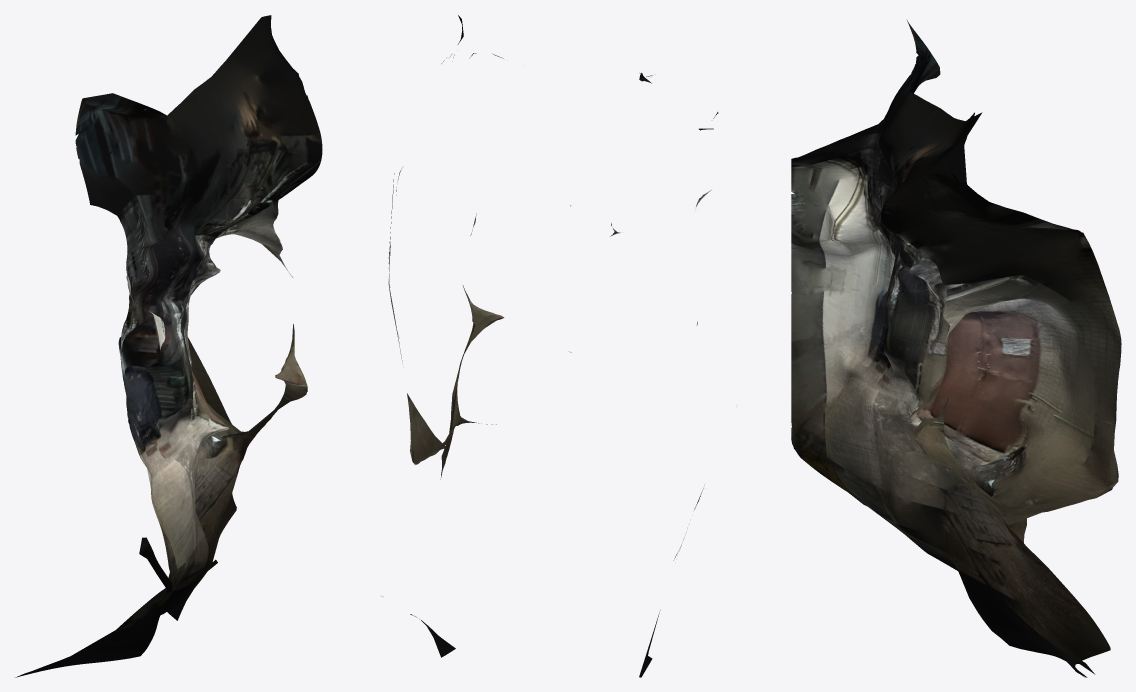
3 renders of one model, left to right at view 1: azimuth 30°, elevation 25°; view 2: azimuth 150°, elevation 25°; view 3: azimuth 270°, elevation 25°, orthographic. The views are drawn at different scales.
Size of the model in its own units: 0.3815 by 0.8626 by 0.4437.
1 material, 1 textured.
